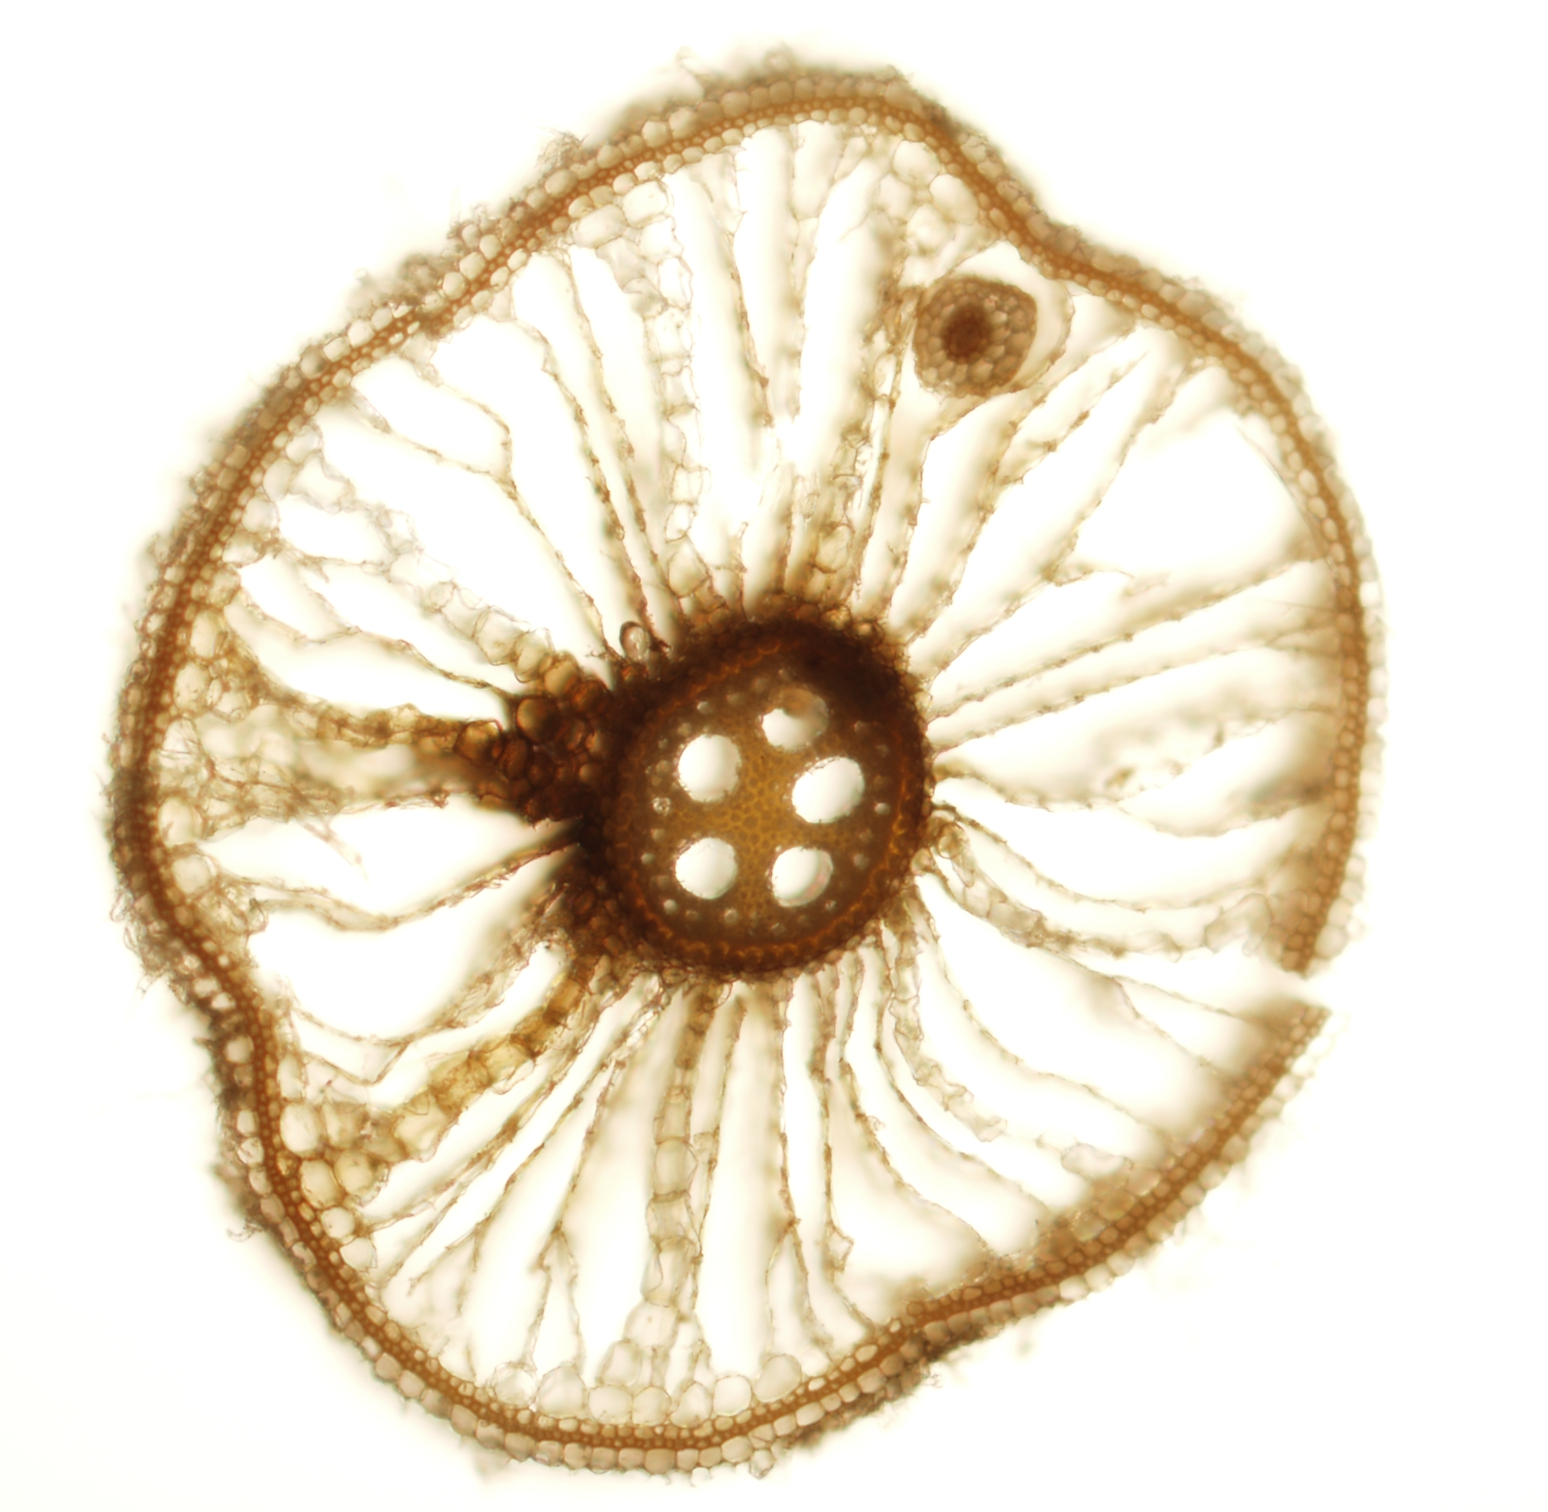lm: (791, 756, 864, 824), (762, 685, 829, 753), (678, 734, 742, 803), (676, 836, 738, 899), (771, 846, 834, 907)
